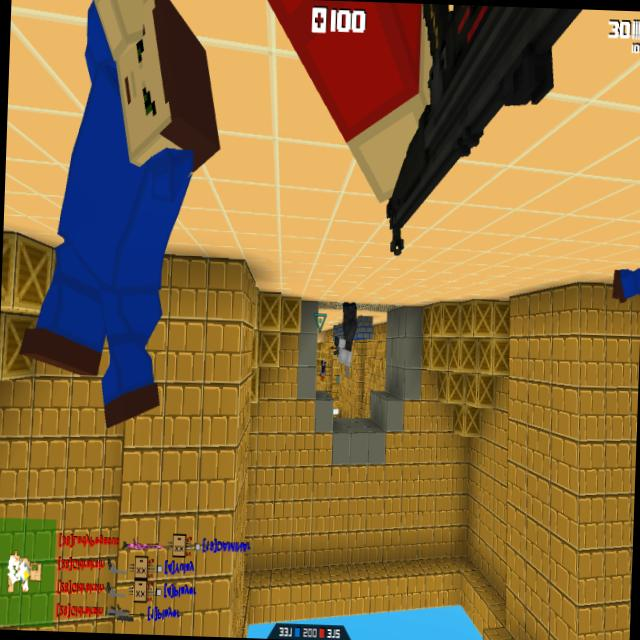enemy: (333, 300, 358, 368), (318, 359, 326, 382)
